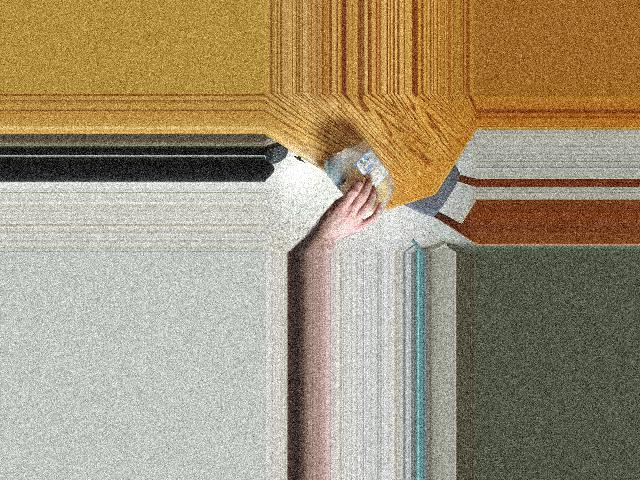cheese: (333, 138, 398, 223)
